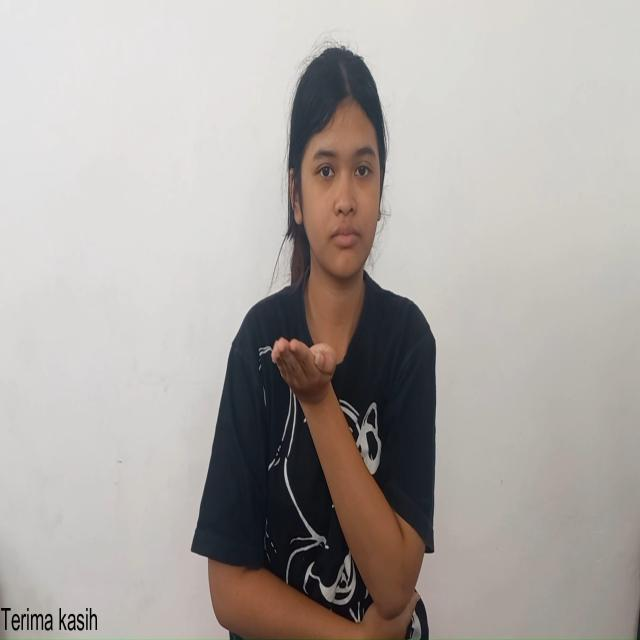Terima kasih -BISINDO-: (259, 280, 386, 567)
